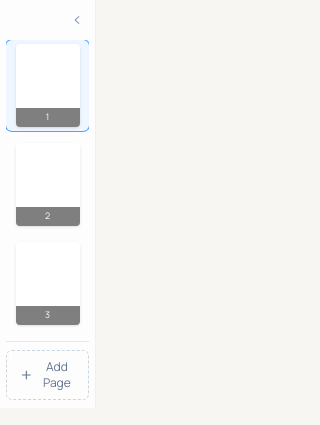
it: PageThumbnails › fold/unfold mechanism › should collapse when collapse button is clicked
The width and height of the screenshot is (320, 425).
What coordinates should you click on to do the following:
click the button titled "Collapse thumbnails"
I would click on:
 (77, 20)
Its box is top-left (65, 8), bottom-right (89, 32).
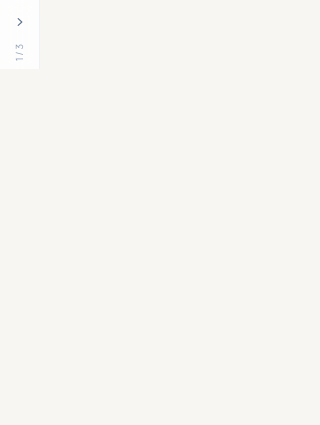
Expected: the button titled "Expand thumbnails" is shown, top-left (6, 8), bottom-right (34, 36)
